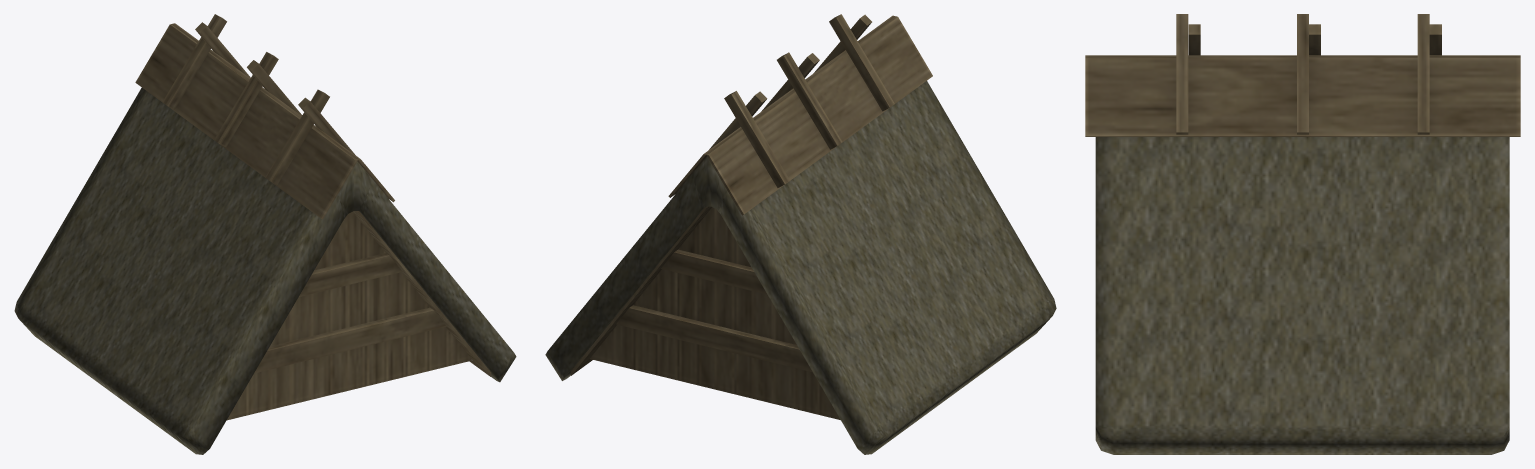
File: sb_obj_outdoor028_house02_roof_a.fbx
3 renders of one model, left to right at view 1: azimuth 30°, elevation 25°; view 2: azimuth 150°, elevation 25°; view 3: azimuth 270°, elevation 25°, orthographic. The views are drawn at different scales.
Visible parts, largest first — view 1: sb_obj_outdoor028_house02_roof_a; view 2: sb_obj_outdoor028_house02_roof_a; view 3: sb_obj_outdoor028_house02_roof_a.
Boxes of the visible parts, x1,y1,x2,y2 form: sb_obj_outdoor028_house02_roof_a: [14, 14, 516, 454]; sb_obj_outdoor028_house02_roof_a: [545, 14, 1056, 454]; sb_obj_outdoor028_house02_roof_a: [1085, 14, 1520, 454].
Bounding box in the file's own units: 3.74 × 3.2 × 3.6.
